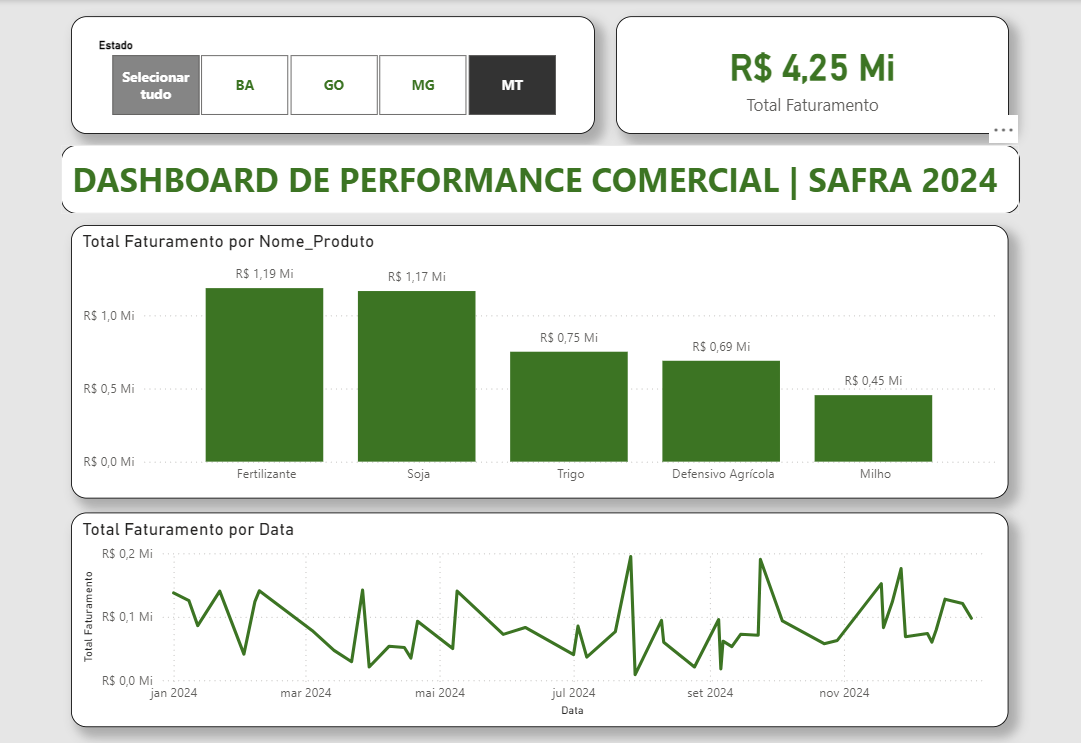

What the dashboard file says about the page in this screenshot:
{"tool":"powerbi","page":{"name":"Página 1","canvas":[1280,720],"ordinal":0},"visuals":[{"type":"card","fields":{"Values":["fVendas.Total Faturamento"]},"box":[748,15.7,378.8,113.4],"z":0},{"type":"columnChart","fields":{"Category":["dProdutos.Nome_Produto"],"Y":["fVendas.Total Faturamento"]},"box":[222,217.2,904.8,264.2],"z":1000},{"type":"slicer","fields":{"Values":["dClientes.Estado"]},"box":[222,15.7,505.5,113.4],"z":2000},{"type":"lineChart","fields":{"Y":["fVendas.Total Faturamento"],"Category":["fVendas.Data"]},"box":[222,494.6,904.8,207.5],"z":3000},{"type":"textbox","box":[212.3,139.9,925.3,66.4],"z":4000}]}

Visuals, with their boxes on the page's 1280x720 design canvas (x1, y1, x2, y2). These are canvas units, not pixel positions in the 1081x743 screenshot, which may show the page scaled, cropped or inside an application window:
card - fVendas.Total Faturamento: <box>748,16,1127,129</box>
columnChart - dProdutos.Nome_Produto x fVendas.Total Faturamento: <box>222,217,1127,481</box>
slicer - dClientes.Estado: <box>222,16,728,129</box>
lineChart - fVendas.Total Faturamento x fVendas.Data: <box>222,495,1127,702</box>
textbox: <box>212,140,1138,206</box>
